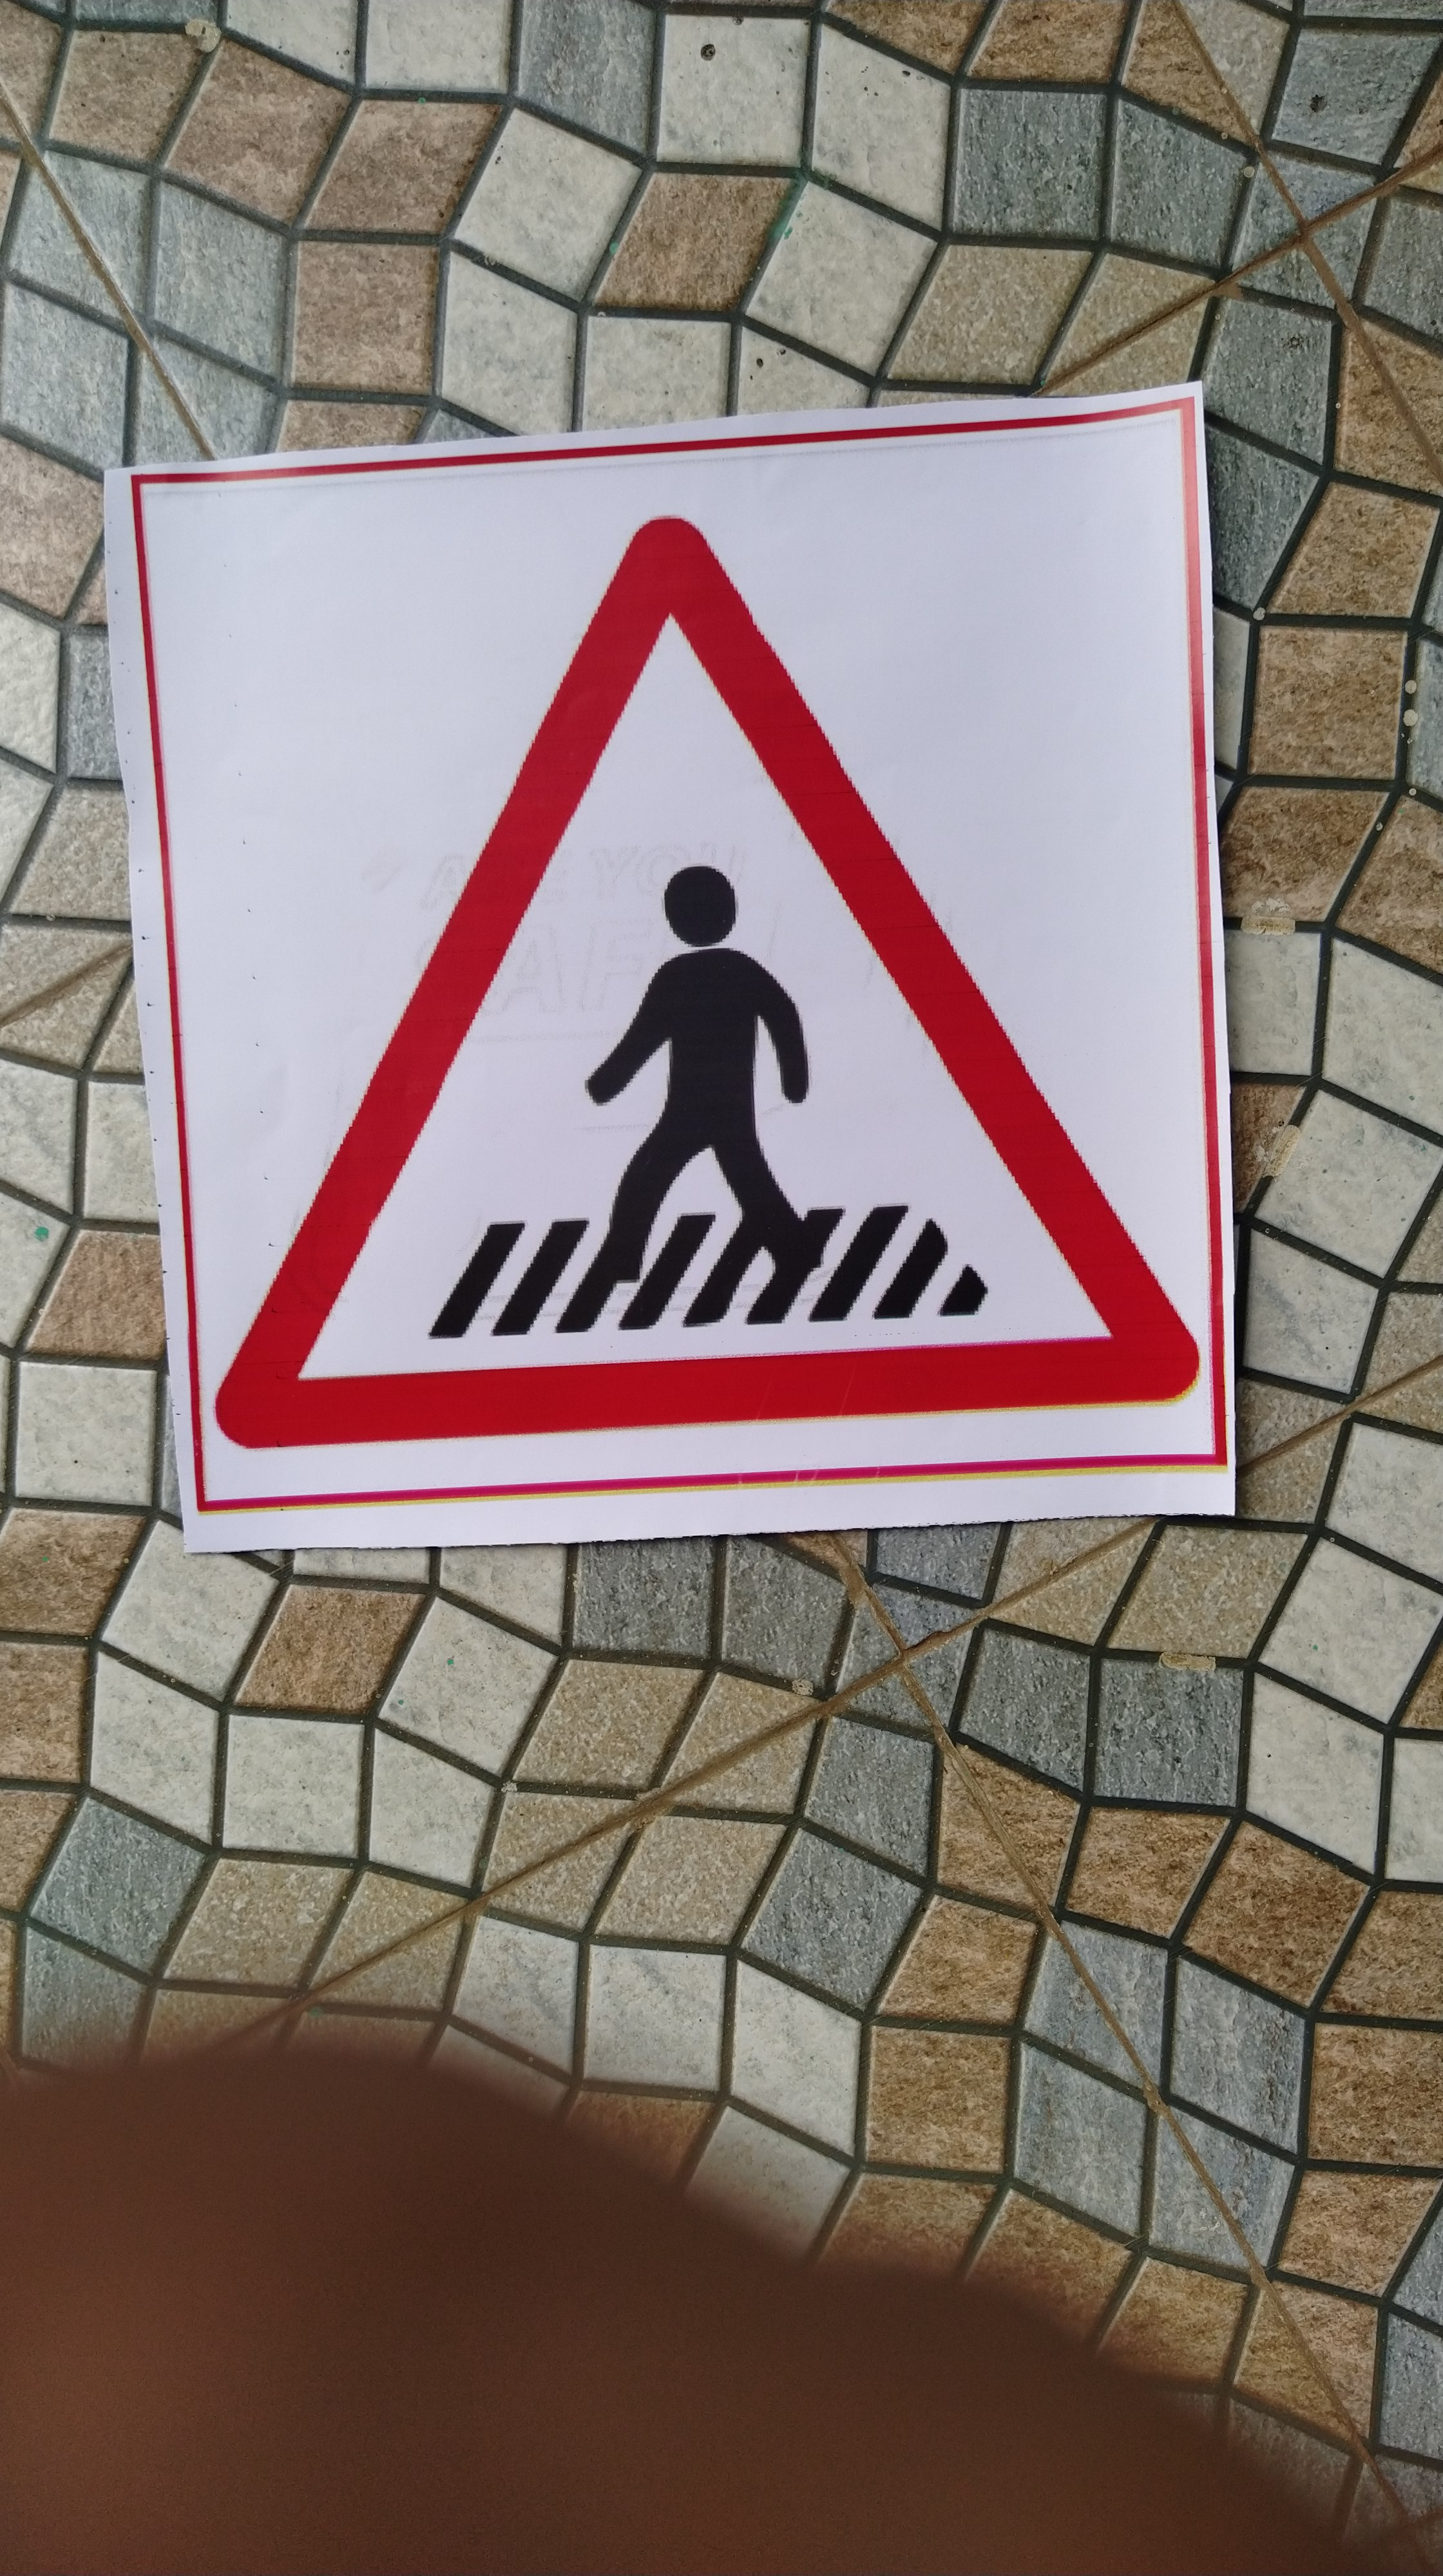pedestrain crossing: (186, 495, 1184, 1461)
